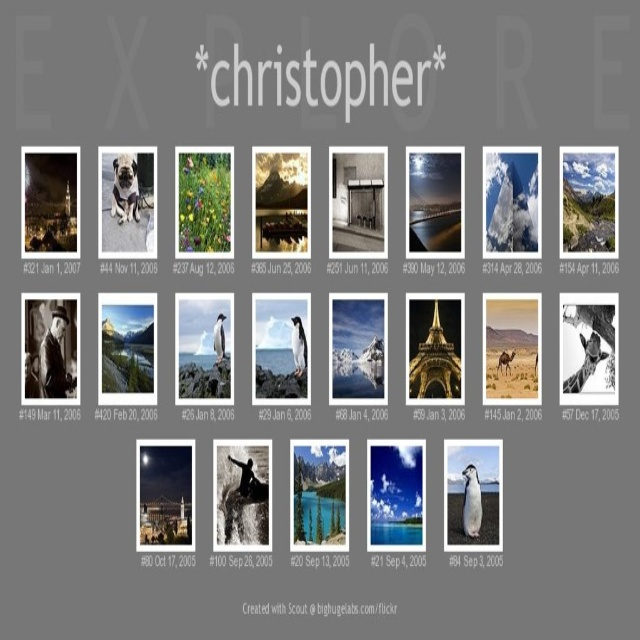Penguin: (461, 463, 484, 537), (291, 314, 307, 376), (213, 314, 225, 369)
